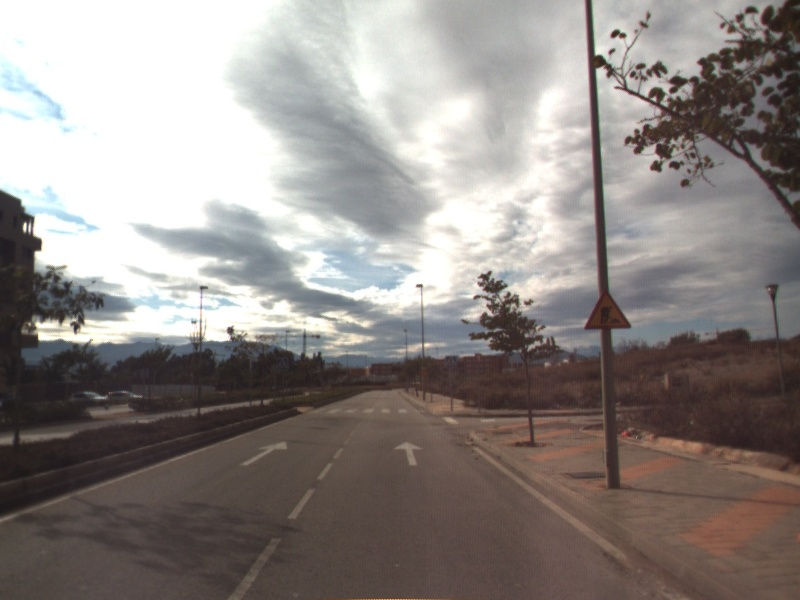STRAIGHT: (238, 439, 289, 468), (392, 439, 426, 467)
